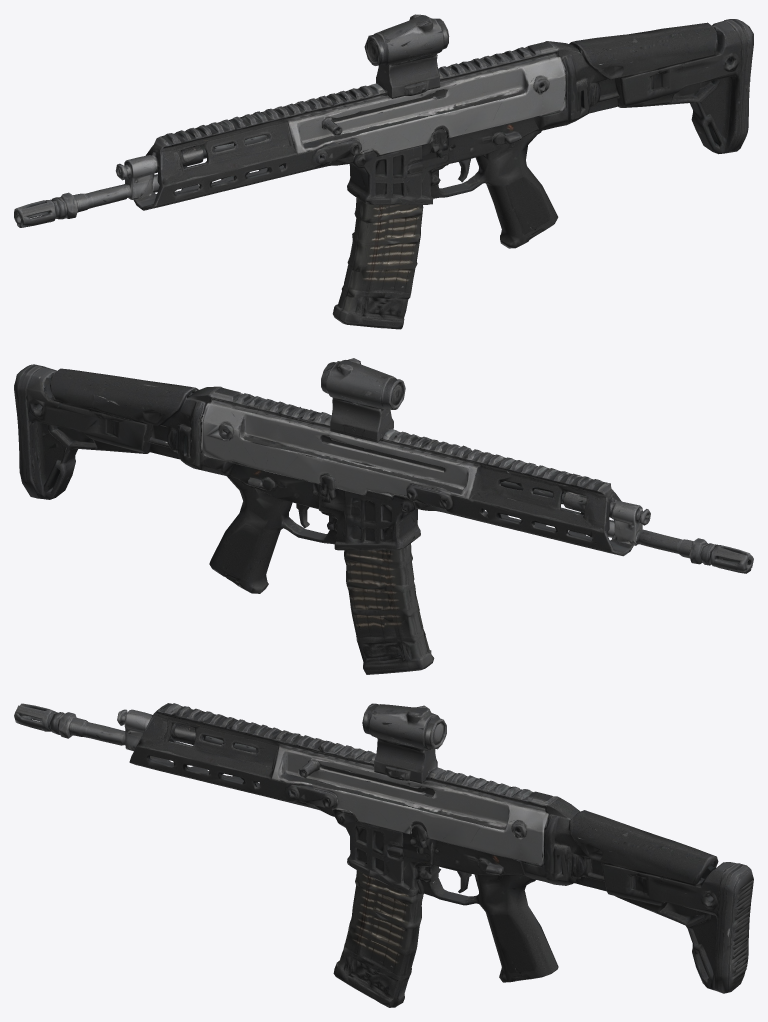
Rendered from fusil.glb.
3 renders of one model, top to bottom at view 1: azimuth 30°, elevation 25°; view 2: azimuth 150°, elevation 25°; view 3: azimuth 330°, elevation 25°, orthographic.
Bounding box in the file's own units: 1.9 × 0.7542 × 0.1482.
1 material, 1 textured.
